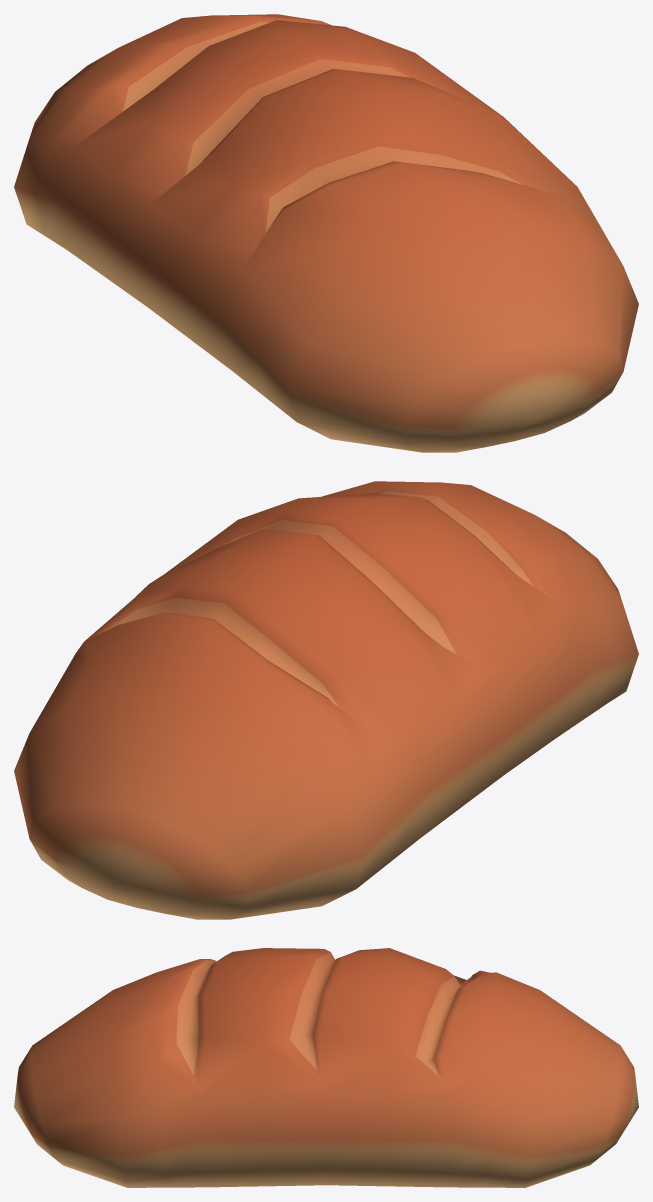
The model's file is turkeybread.fbx.
3 views of the same model, one above another, from view 1: azimuth 30°, elevation 25°; view 2: azimuth 150°, elevation 25°; view 3: azimuth 270°, elevation 25° (orthographic). The views are drawn at different scales.
Visible parts, largest first — view 1: BIG BREAD; view 2: BIG BREAD; view 3: BIG BREAD.
Boxes of the visible parts, <box> form: BIG BREAD: <box>14,14,638,452</box>; BIG BREAD: <box>14,481,638,919</box>; BIG BREAD: <box>14,948,638,1187</box>.
Bounding box in the file's own units: 84.24 × 56.11 × 160.
1 material, 1 textured.
